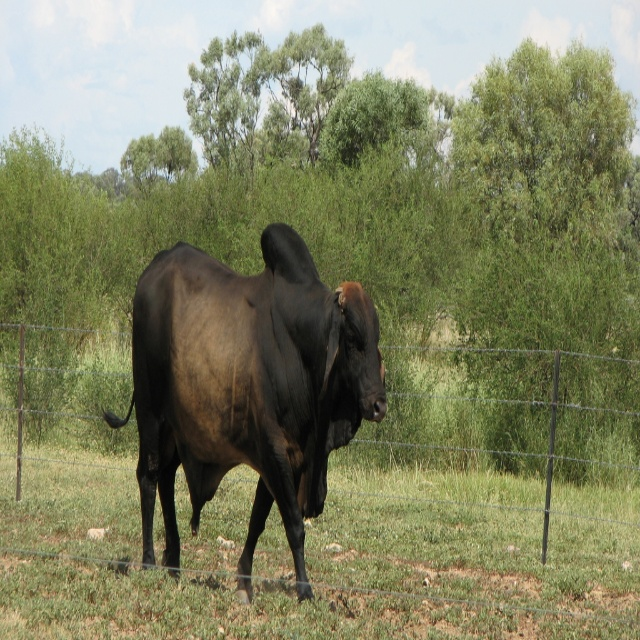Bull: (100, 221, 388, 608)
